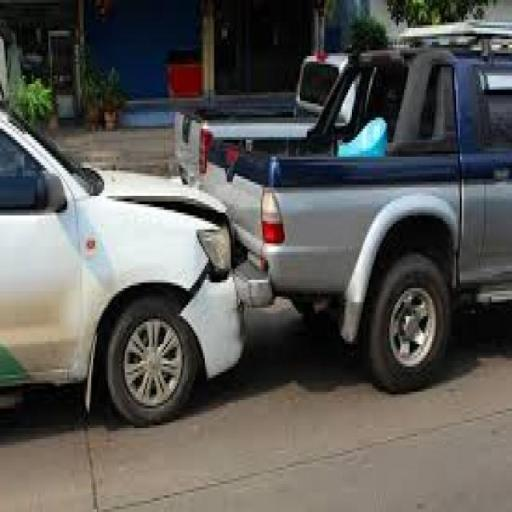小汽车撞小汽车: (1, 63, 510, 417)
